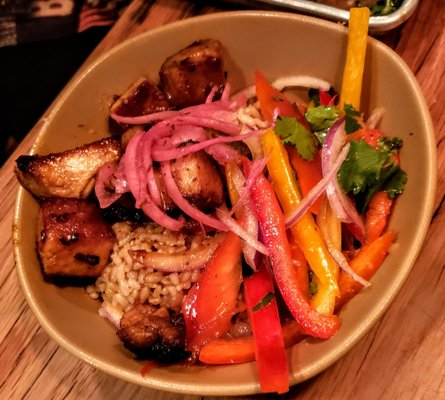pizza: (349, 231, 395, 280)
